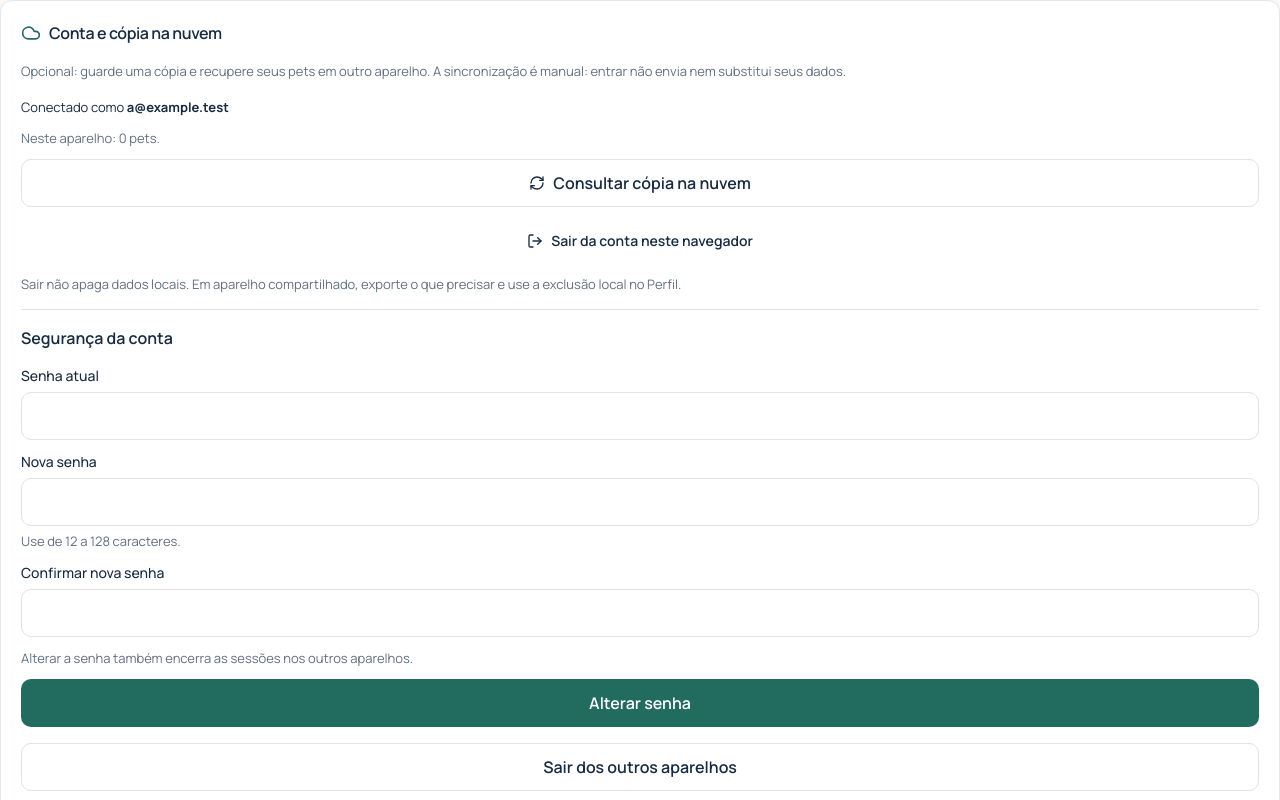
it: conta Neon opcional › sair mantém os registros locais
Click the button "Sair da conta neste navegador".
click(640, 241)  # box [21,219,1259,263]
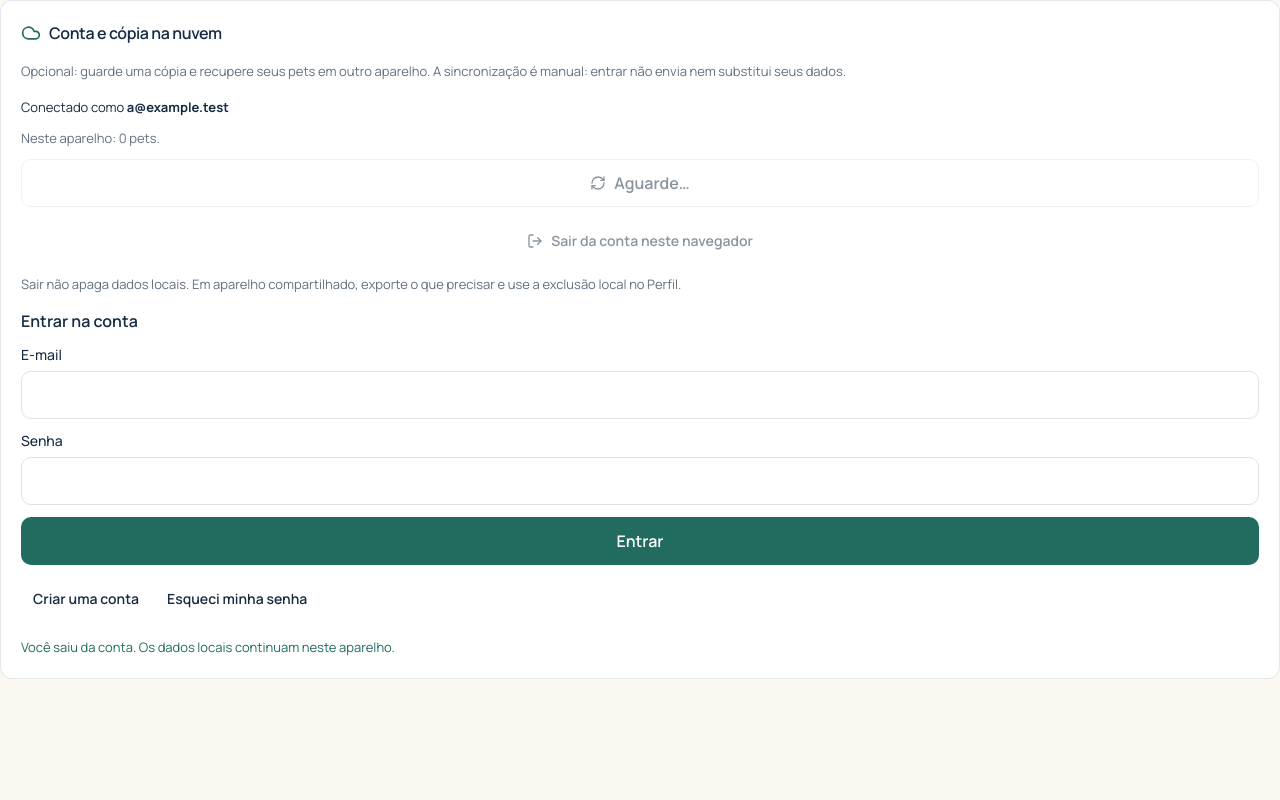
Expected: the button "Entrar" is shown, [21,517,1259,565]
